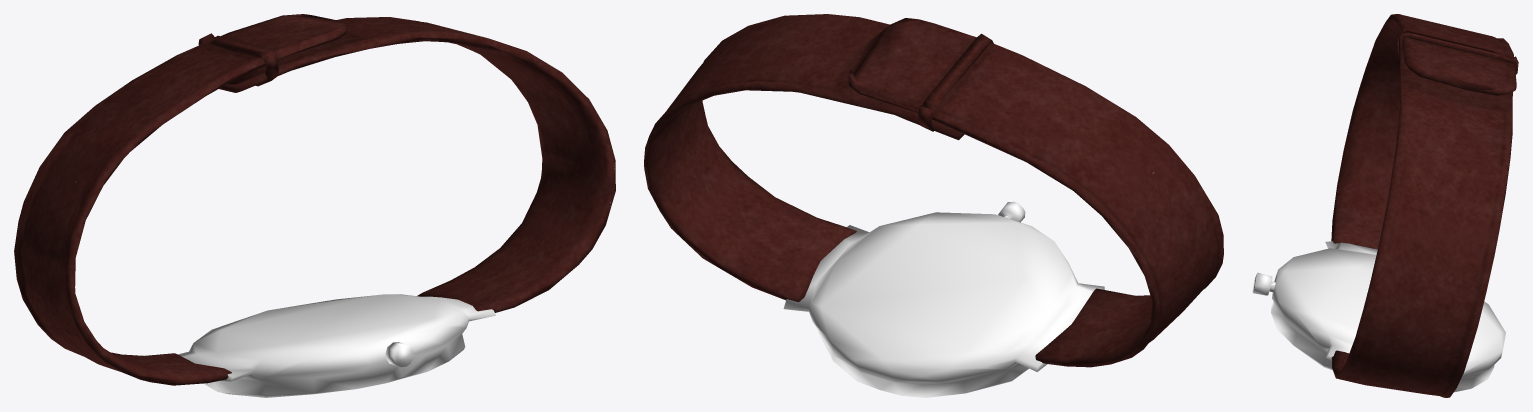
File: MeshCylinder_289_0.obj
3 views of the same model, side by side, from view 1: azimuth 30°, elevation 25°; view 2: azimuth 150°, elevation 25°; view 3: azimuth 270°, elevation 25° (orthographic). The views are drawn at different scales.
Visible parts, largest first — view 1: Cylinder_289; view 2: Cylinder_289; view 3: Cylinder_289.
Boxes of the visible parts, x1,y1,x2,y2 form: Cylinder_289: (14, 14, 615, 397); Cylinder_289: (644, 14, 1223, 397); Cylinder_289: (1252, 14, 1518, 397).
Size of the model in its own units: 0.0771 by 0.0471 by 0.0363.
